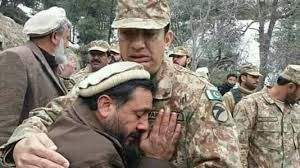uniform: (91, 36, 237, 159), (231, 67, 300, 164)
